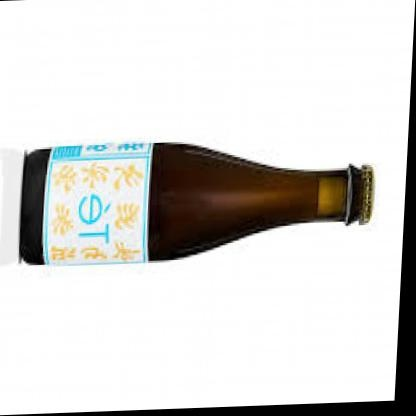trash: (19, 143, 373, 263)
